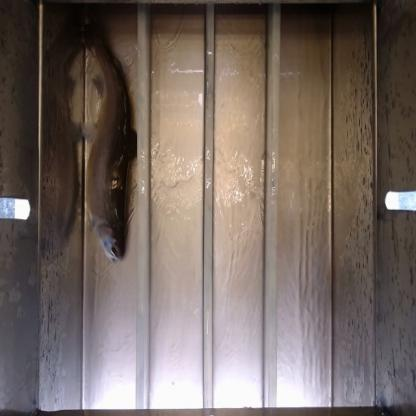pezw: (80, 28, 137, 266)
